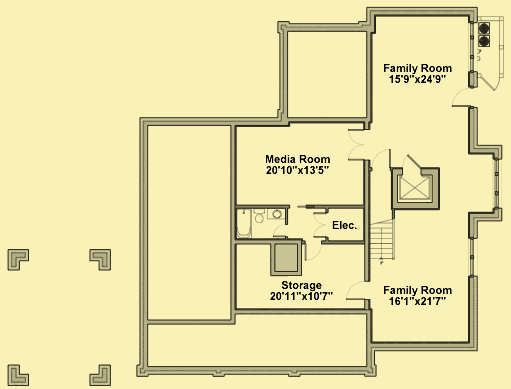door: (345, 127, 367, 164), (344, 282, 370, 305), (309, 211, 329, 239), (370, 147, 395, 169), (303, 241, 324, 263), (450, 88, 473, 108), (480, 73, 502, 93), (401, 153, 423, 172), (271, 223, 291, 238)
large_sink: (253, 208, 267, 227)
small_sink: (267, 208, 285, 221)
stairs: (368, 216, 397, 267)
tub: (235, 208, 253, 242)
window: (491, 159, 503, 209), (470, 236, 479, 276)
